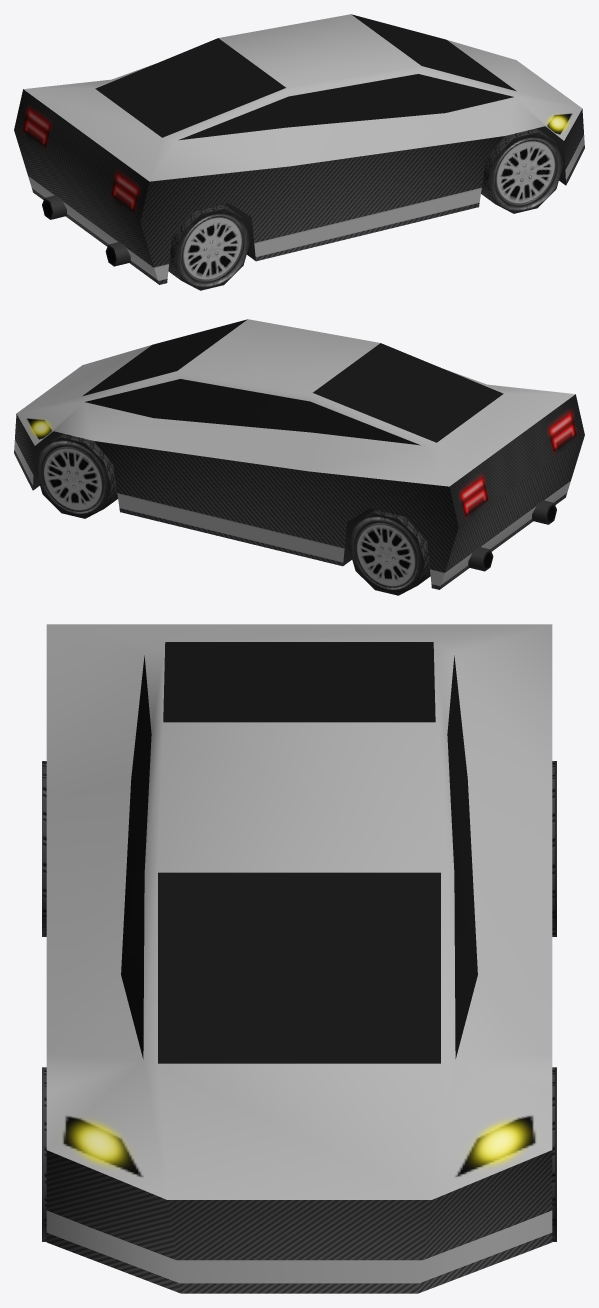
File: Car3.FBX
3 views of the same model, one above another, from view 1: azimuth 30°, elevation 25°; view 2: azimuth 150°, elevation 25°; view 3: azimuth 270°, elevation 25° (orthographic). The views are drawn at different scales.
Parts seen in each view (by area): view 1: Box002; view 2: Box002; view 3: Box002.
Boxes of the visible parts, x1,y1,x2,y2 form: Box002: [14, 14, 584, 290]; Box002: [14, 319, 584, 595]; Box002: [42, 624, 556, 1293].
Bounding box in the file's own units: 519 × 158 × 242.
